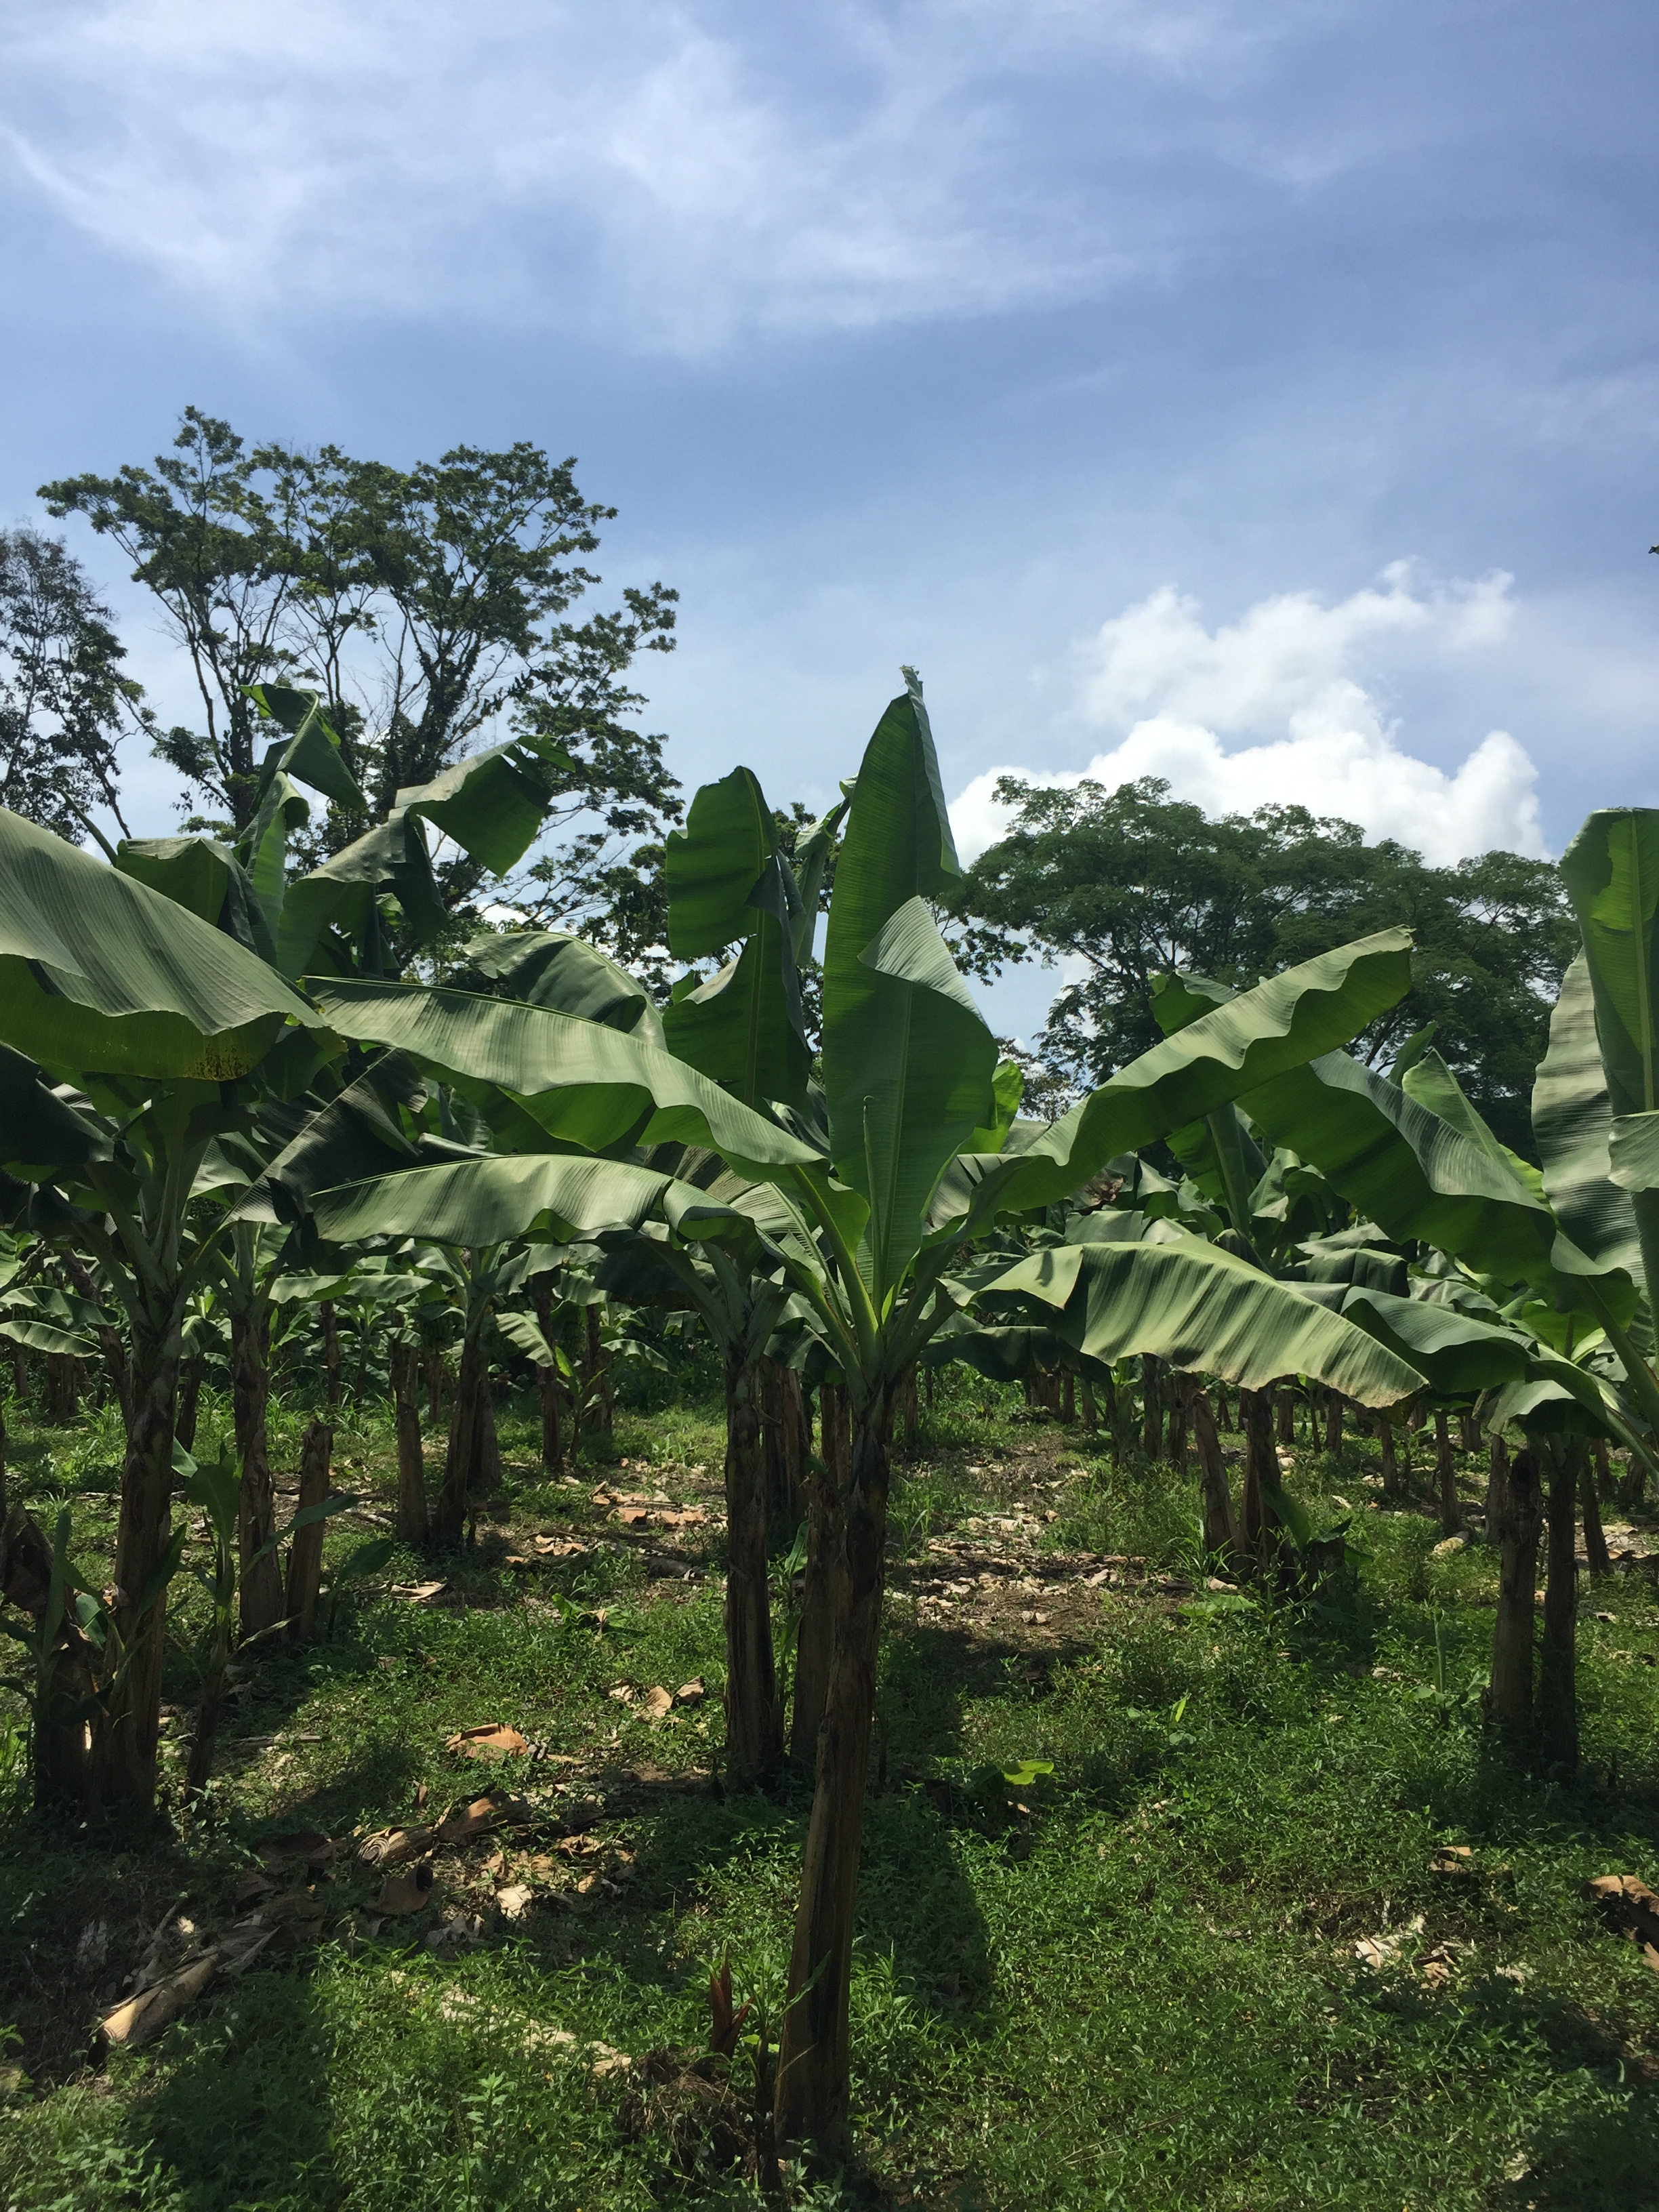candleleafs: (859, 1096, 882, 1325)
